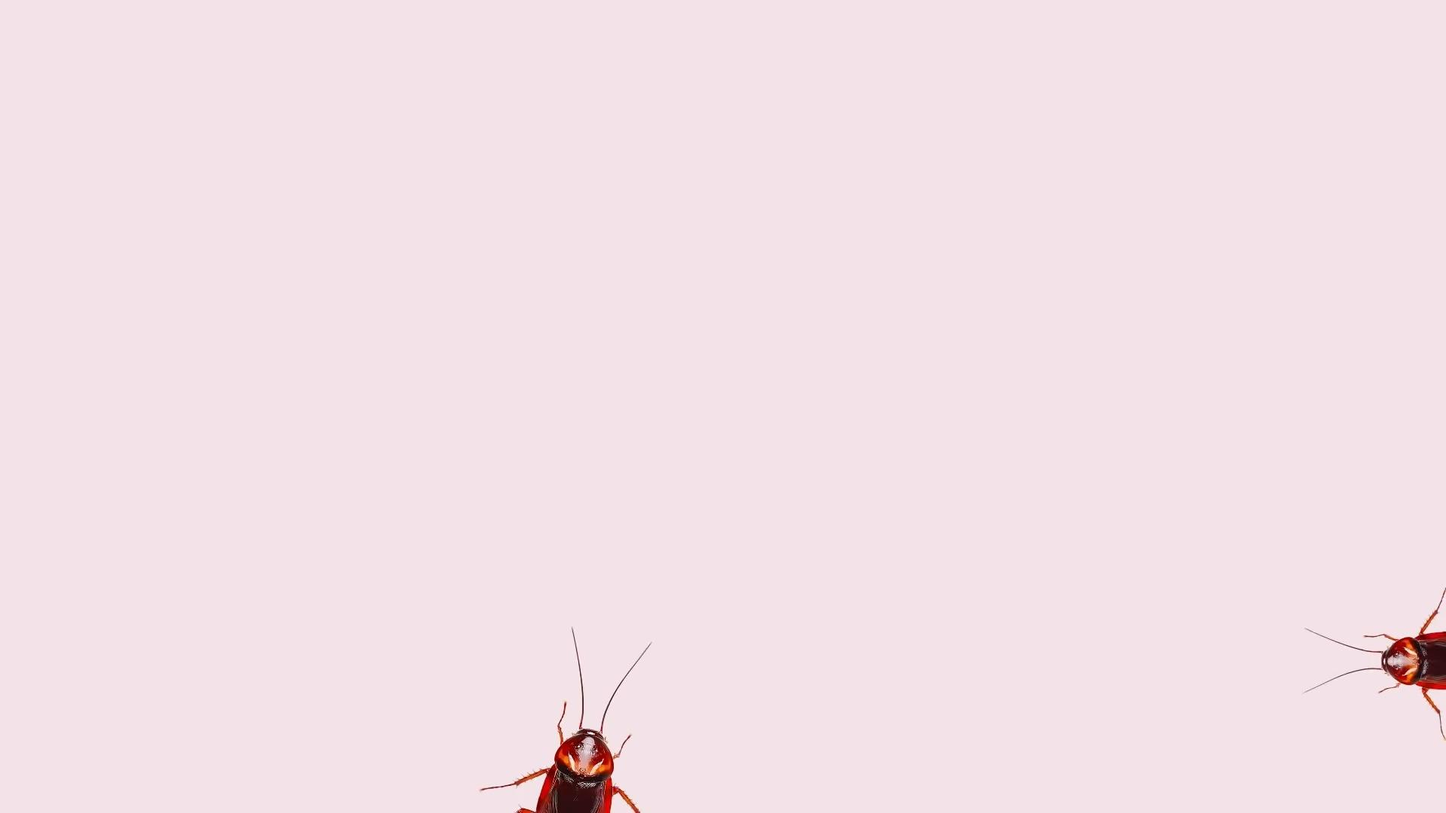cockroach: (473, 693, 650, 813), (1356, 604, 1446, 715)
